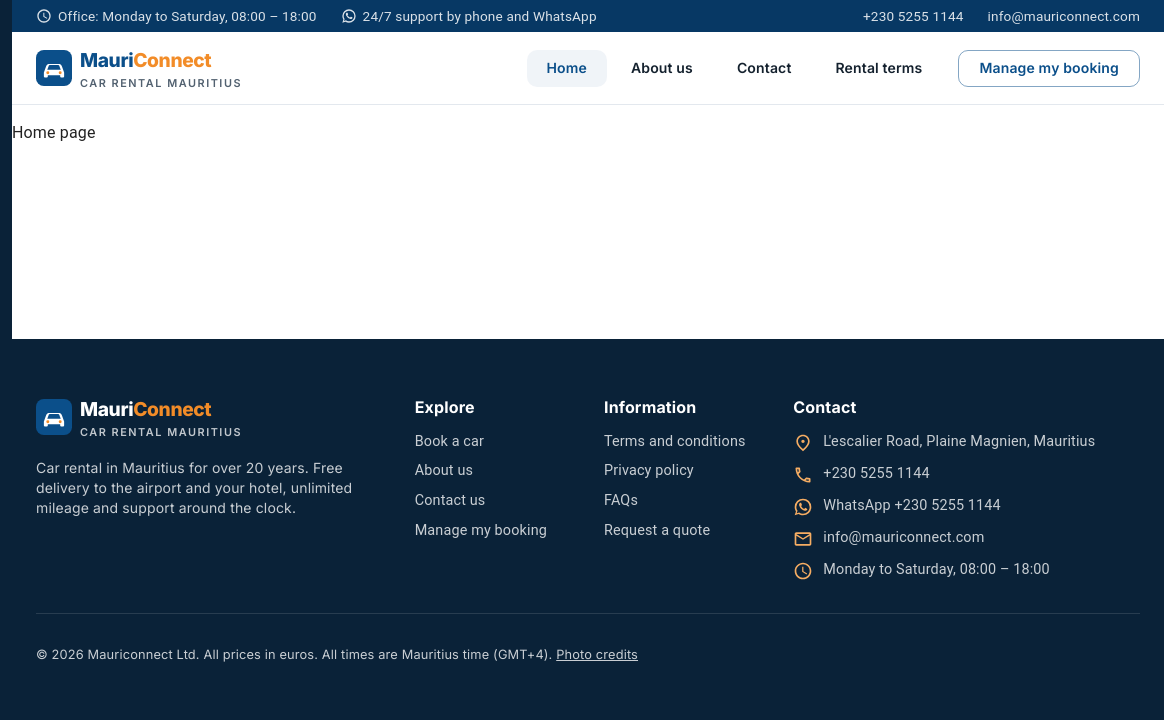
Test case: MainLayout › survives a window.scrollTo that returns a value (patched by extensions or polyfills)
Check: the text "Home page" is shown, box [12,123,96,142]
Step 1. Click the link "About us" in the row of "Rental terms" → (662, 68), box [631,59,693,76]
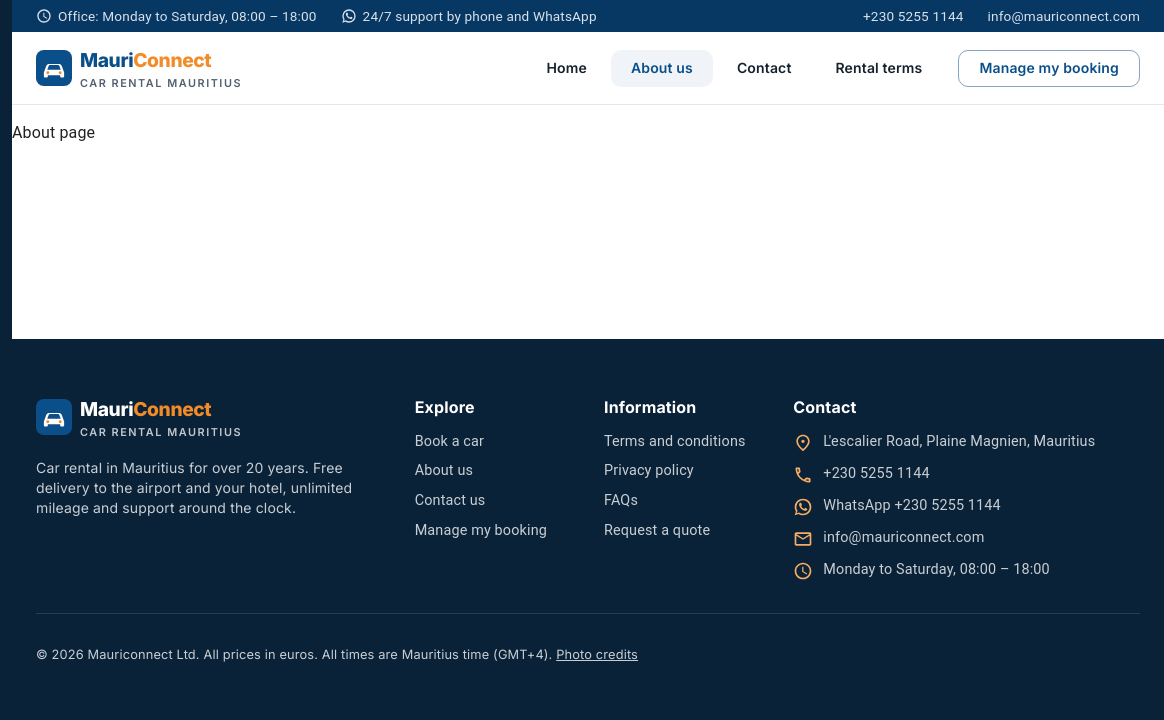
Check: the text "About page" is shown, box [12,123,95,142]
